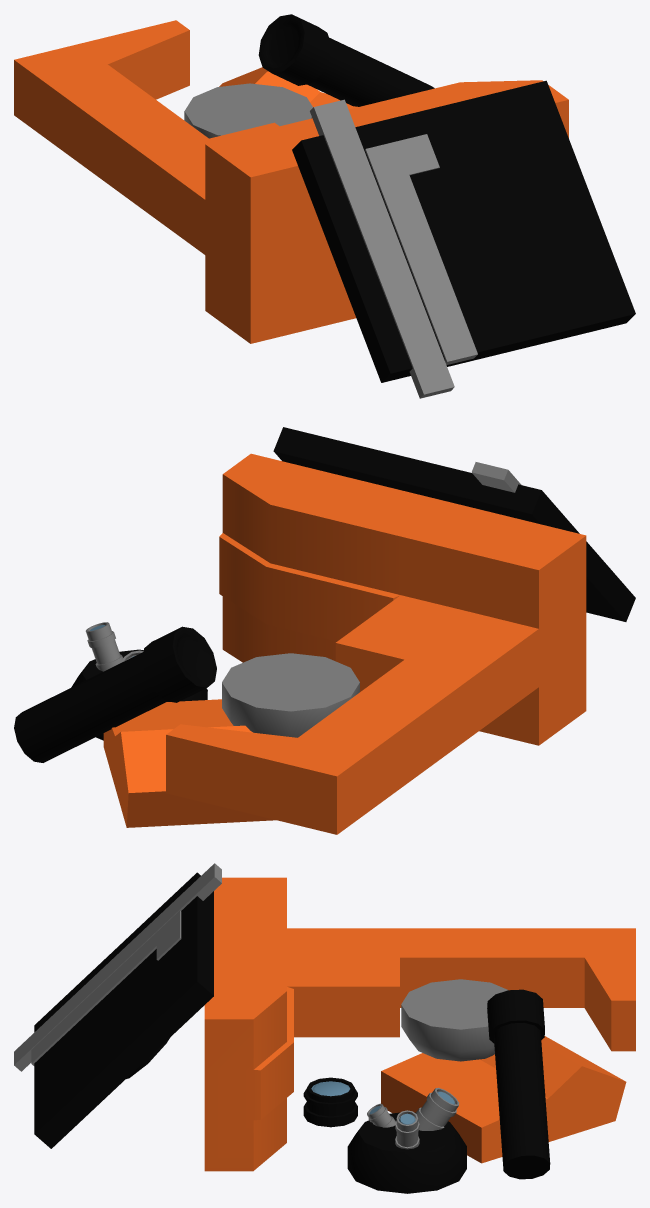
File: BrokenMicroscope.fbx
3 views of the same model, one above another, from view 1: azimuth 30°, elevation 25°; view 2: azimuth 150°, elevation 25°; view 3: azimuth 270°, elevation 25° (orthographic). The views are drawn at different scales.
Parts seen in each view (by area): view 1: microscope; view 2: microscope; view 3: microscope.
Boxes of the visible parts, bbox=[...] form: microscope: bbox=[14, 14, 635, 398]; microscope: bbox=[14, 427, 635, 834]; microscope: bbox=[14, 863, 635, 1193].
Size of the model in its own units: 58.45 by 32.79 by 93.26.
